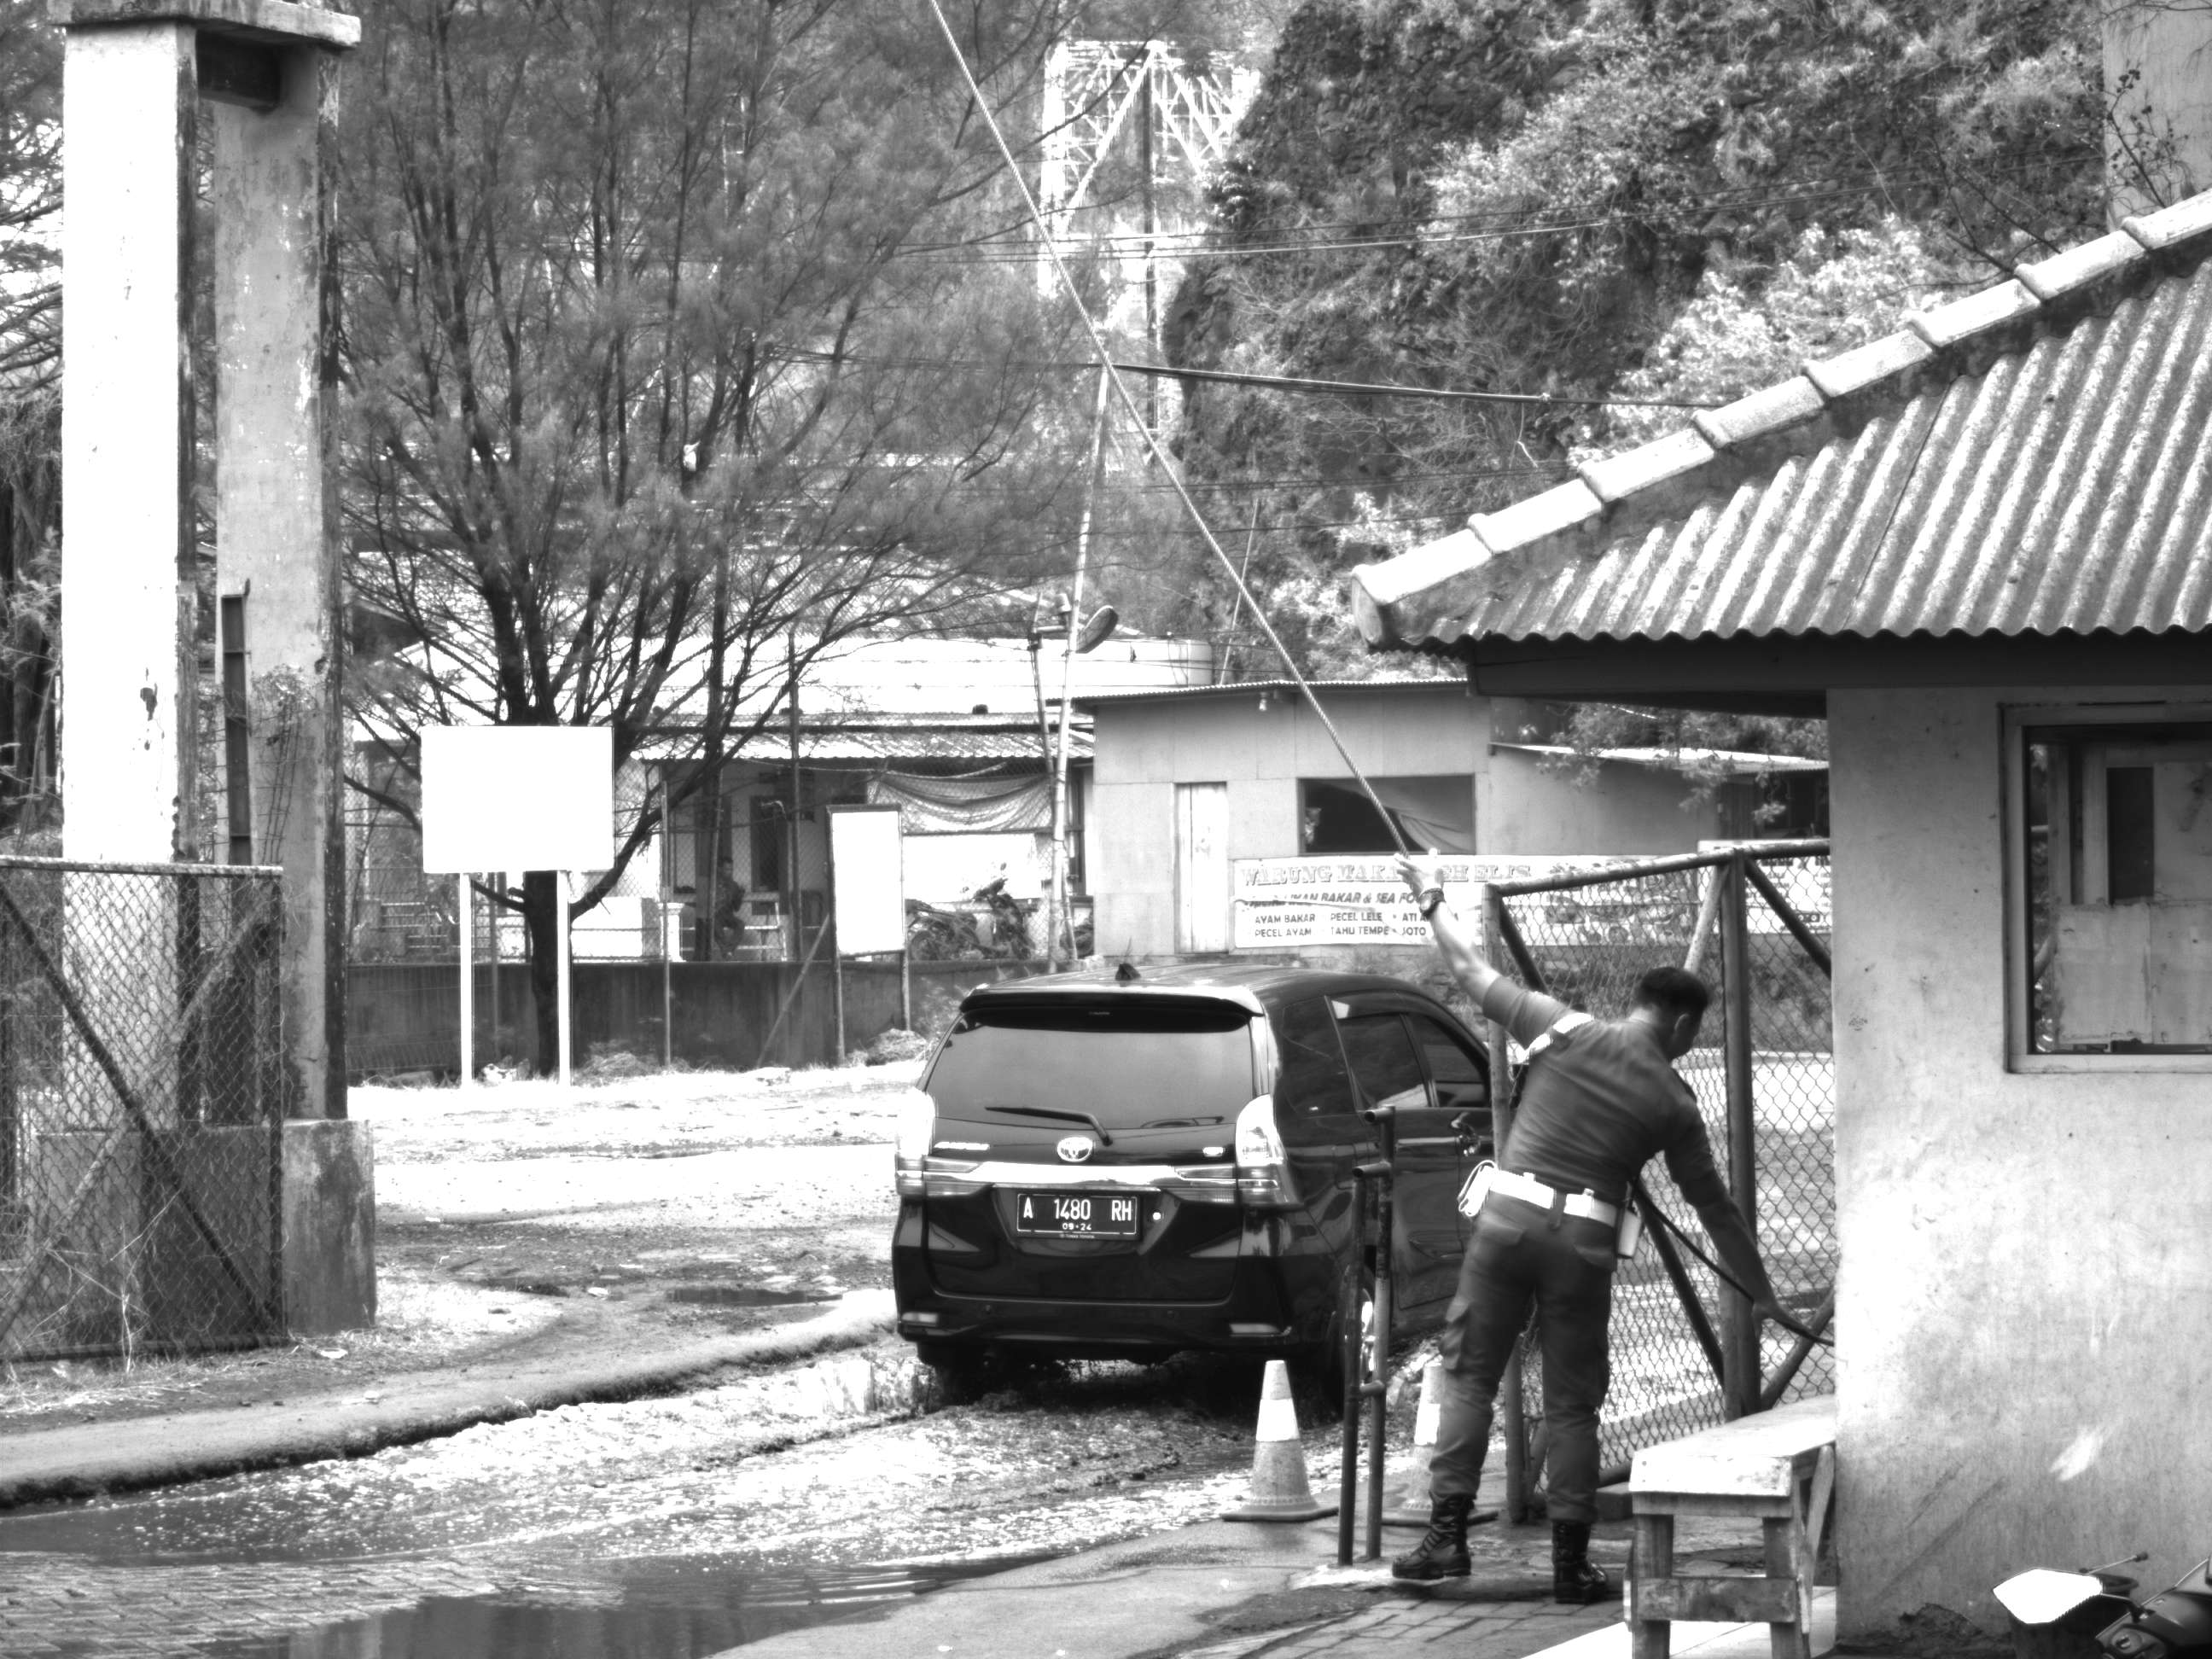day_small_rear: (888, 973, 1412, 1406)
plate: (1016, 1185, 1144, 1241)
